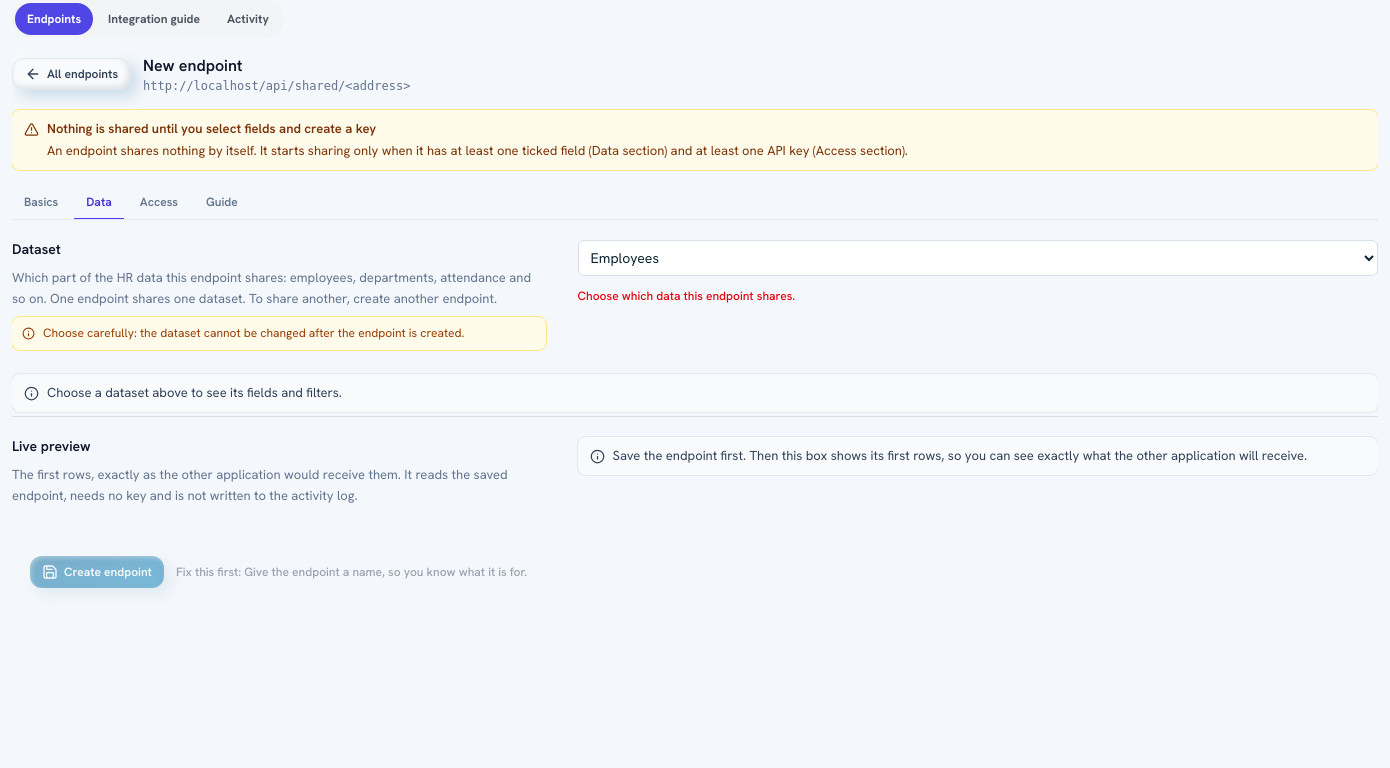
Test: creating an endpoint: one Save, all or nothing › changing the dataset starts again with no fields and no locks
The image size is (1390, 768).
Select "Employees" in the dropdown with id "es-dataset" at coordinates (978, 258), box [578,240,1378,276]
(page scrolled)
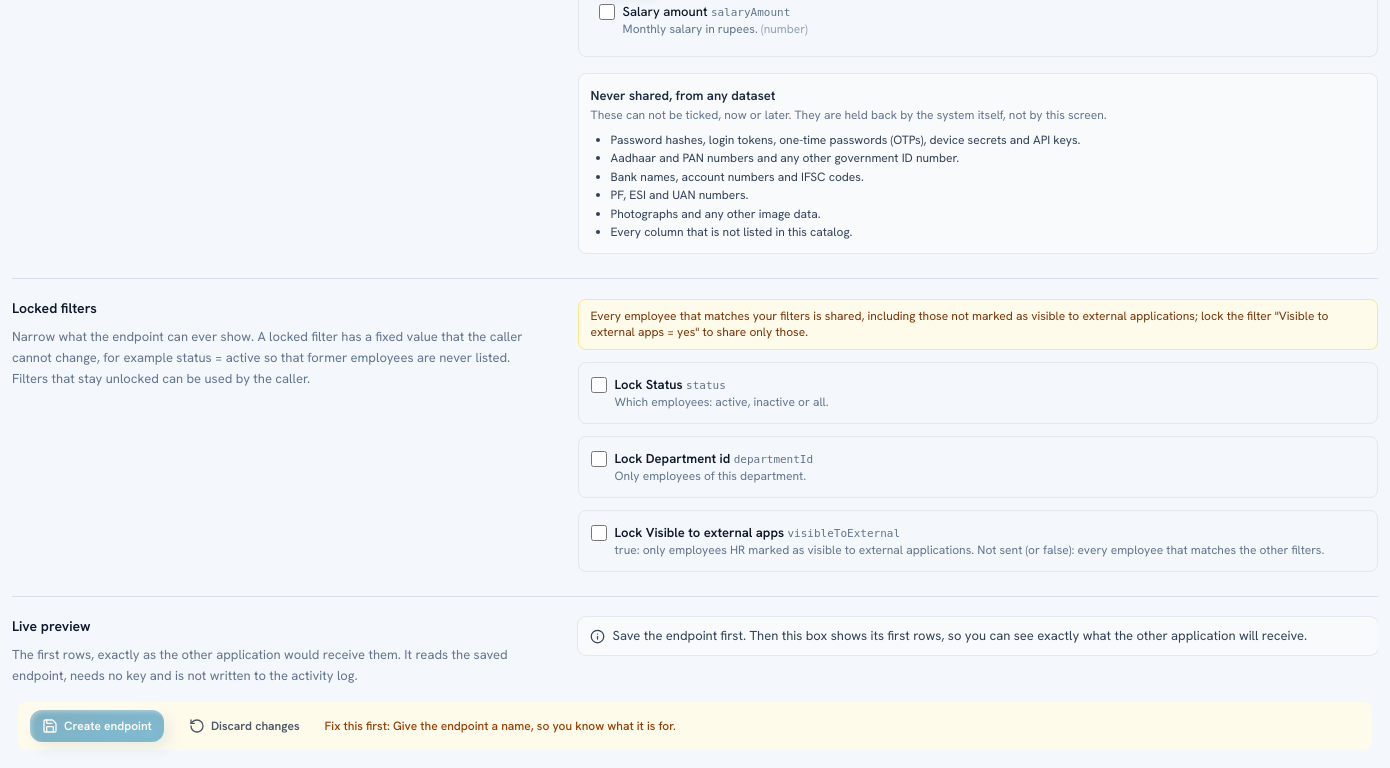
Click the checkbox with id "es-lock-status".
click(599, 385)  # box [591,377,607,393]
(page scrolled)
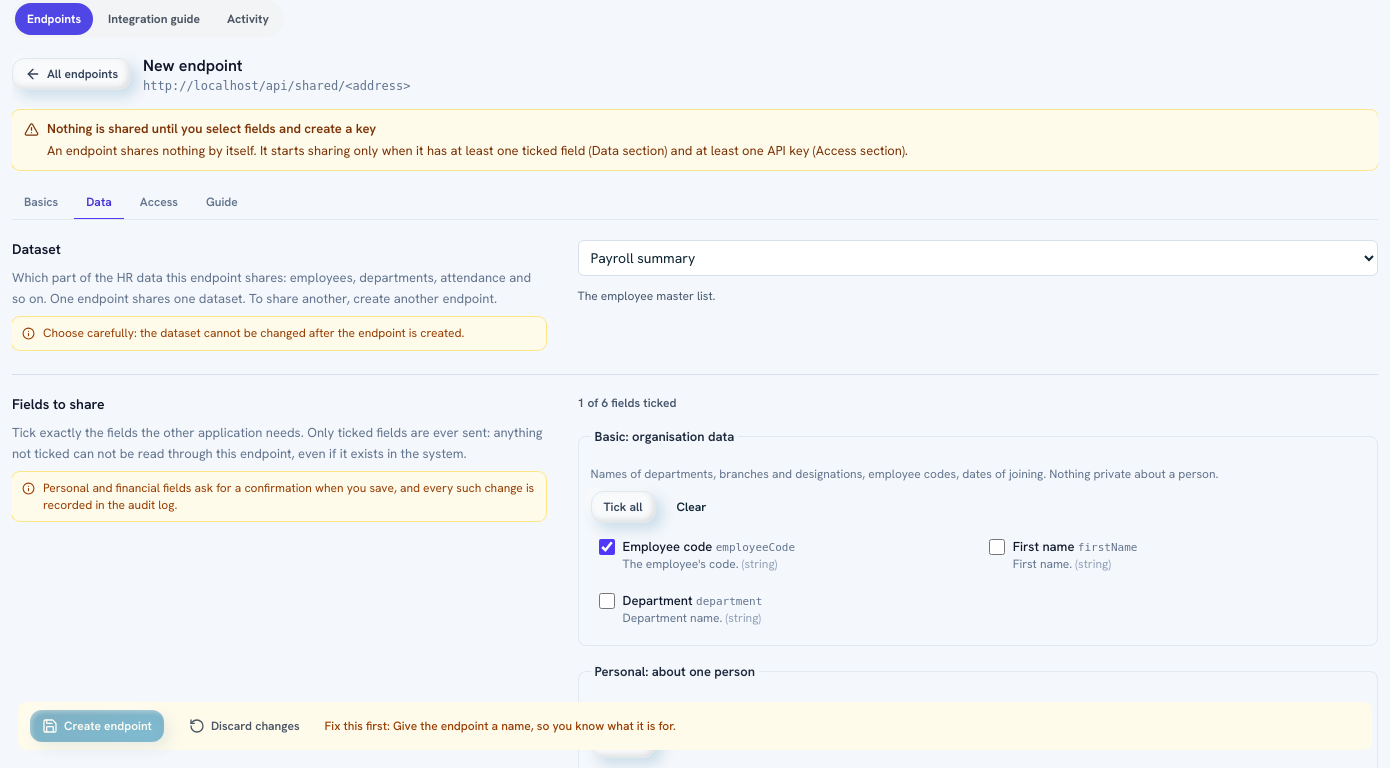
Result: the text "1 of 6 fields ticked" is shown at [578,395,676,411]
Select "Payroll summary" in the dropdown with id "es-dataset" at coordinates (978, 258), box [578,240,1378,276]
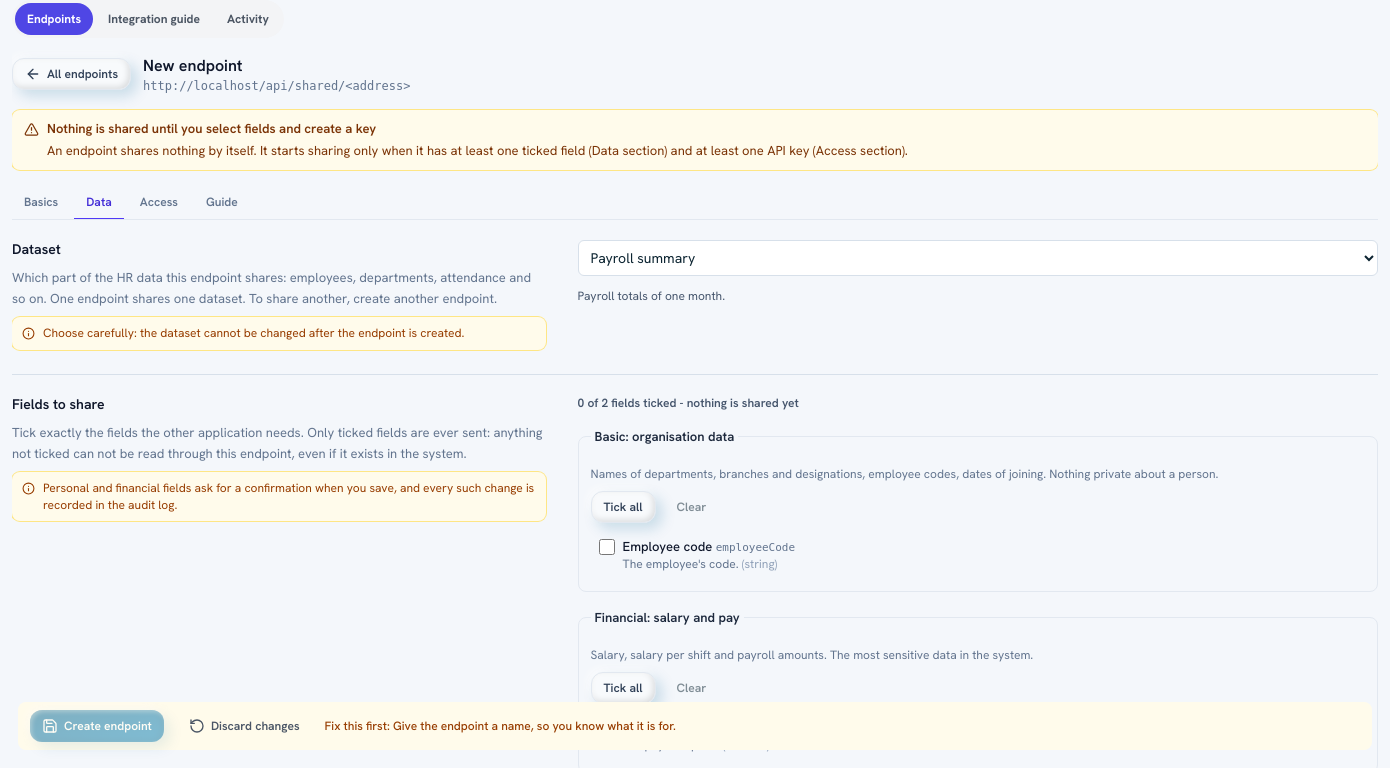
Result: the text "0 of 2 fields ticked - nothing is shared yet" is shown at [578,395,799,411]
